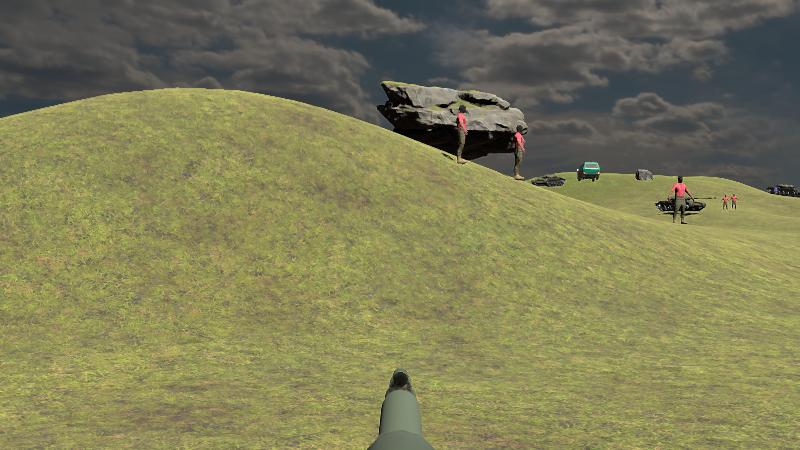Human: (668, 174, 693, 224), (455, 103, 468, 165), (513, 124, 526, 180)
